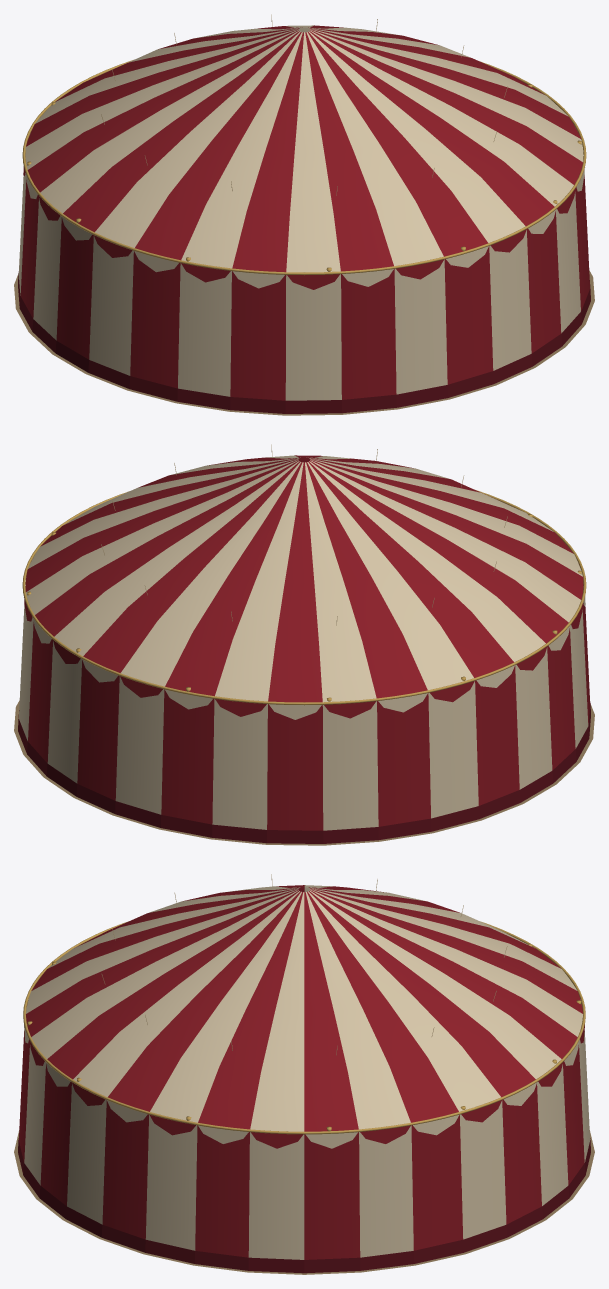
File: circus_tent.glb
3 renders of one model, top to bottom at view 1: azimuth 30°, elevation 25°; view 2: azimuth 150°, elevation 25°; view 3: azimuth 270°, elevation 25°, orthographic.
Visible parts, largest first — view 1: Tent_Roof, Tent_Walls, Tent_Skirt, Tent_Valance, Tent_Trim, Tent_Floor; view 2: Tent_Roof, Tent_Walls, Tent_Skirt, Tent_Valance, Tent_Trim, Tent_Floor; view 3: Tent_Roof, Tent_Walls, Tent_Skirt, Tent_Valance, Tent_Trim, Tent_Floor.
Part boxes in pixels (bbox=[...]): Tent_Roof: bbox=[25, 25, 583, 272]; Tent_Walls: bbox=[18, 155, 590, 400]; Tent_Skirt: bbox=[18, 271, 590, 413]; Tent_Valance: bbox=[23, 166, 584, 289]; Tent_Trim: bbox=[22, 60, 586, 275]; Tent_Floor: bbox=[14, 270, 594, 415]; Tent_Roof: bbox=[25, 455, 583, 702]; Tent_Walls: bbox=[18, 585, 590, 830]; Tent_Skirt: bbox=[18, 701, 590, 843]; Tent_Valance: bbox=[24, 596, 585, 719]; Tent_Trim: bbox=[22, 490, 586, 705]; Tent_Floor: bbox=[14, 700, 594, 845]; Tent_Roof: bbox=[25, 885, 583, 1131]; Tent_Walls: bbox=[18, 1031, 590, 1259]; Tent_Skirt: bbox=[18, 1138, 590, 1273]; Tent_Valance: bbox=[24, 1024, 584, 1148]; Tent_Trim: bbox=[23, 921, 585, 1134]; Tent_Floor: bbox=[14, 1130, 594, 1274].
Size of the model in its own units: 34.5 by 17.2 by 34.5.
